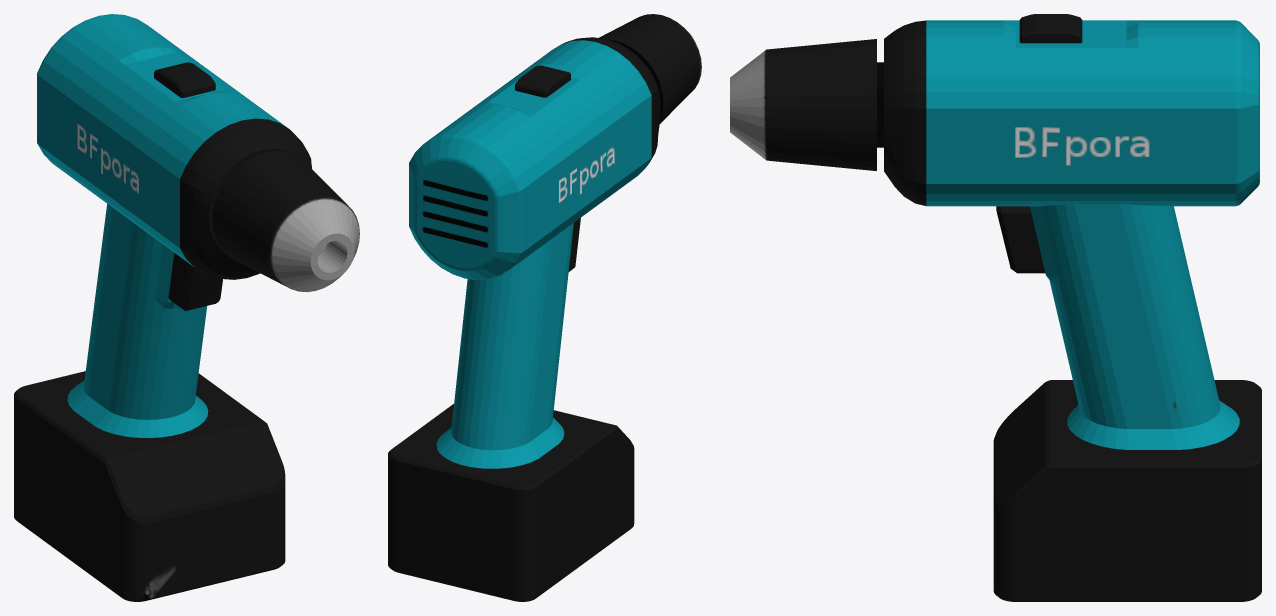
The model's file is makita.fbx.
The picture shows the model from 3 angles, left to right: view 1: azimuth 30°, elevation 25°; view 2: azimuth 150°, elevation 25°; view 3: azimuth 270°, elevation 25°; orthographic projection. The views are drawn at different scales.
Visible parts, largest first — view 1: Makita; view 2: Makita; view 3: Makita.
Part boxes in pixels (x1,y1,x2,y2): Makita: (14, 14, 359, 601); Makita: (388, 14, 701, 601); Makita: (730, 14, 1261, 601).
Bounding box in the file's own units: 33.66 × 97.72 × 87.61.
1 material, 1 textured.
